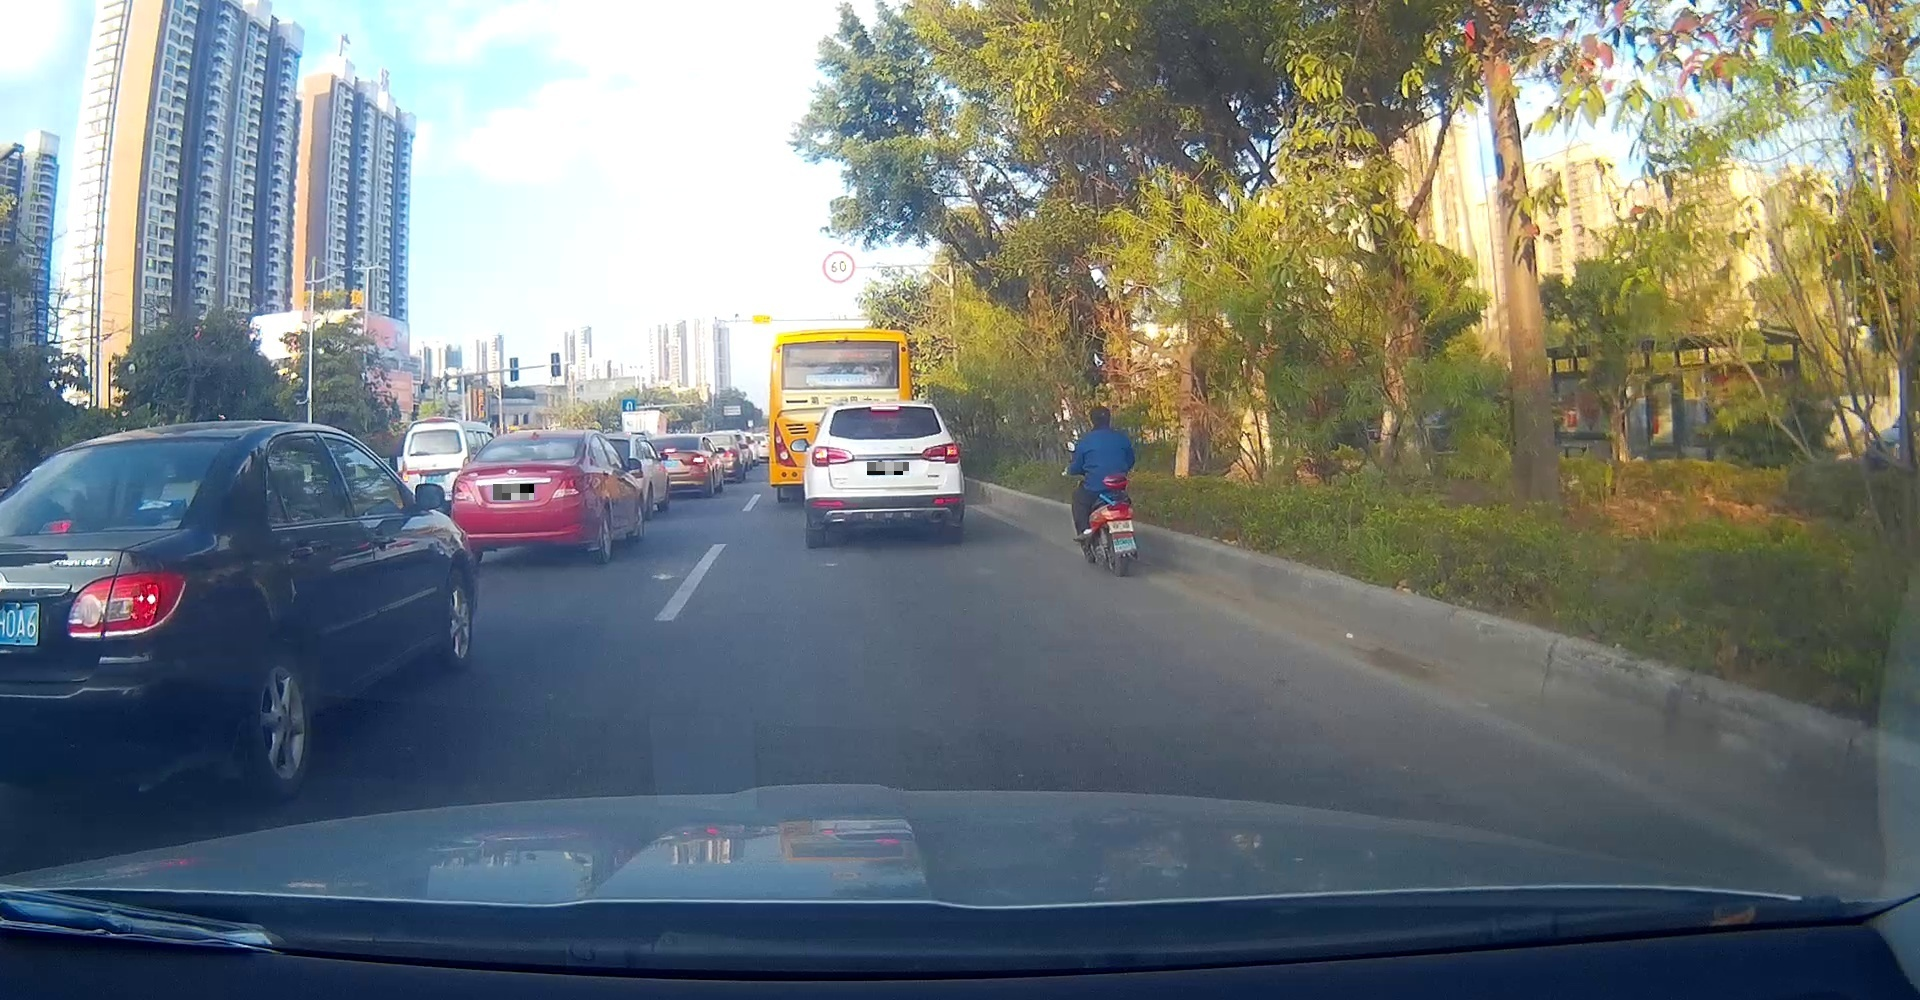L_light: (811, 445, 855, 466), (451, 481, 475, 503)
R_light: (922, 443, 959, 464), (554, 475, 584, 497)
T_light: (870, 406, 898, 411), (524, 438, 543, 442)
day-brake: (804, 400, 965, 547)
day-no: (450, 429, 587, 563)
plate_1: (493, 484, 535, 500)
plate_2: (867, 462, 909, 475)
